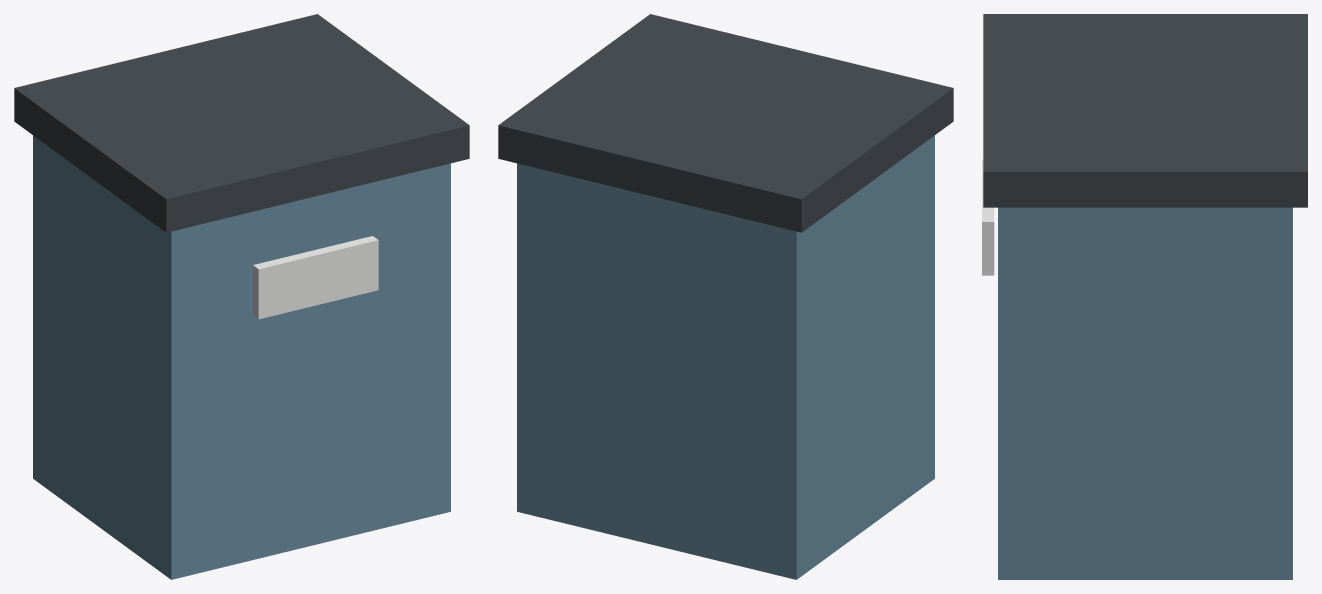
Rendered from long-haul-trucking-and-truck-stop-litter-bin-ffcdad72__14002.glb.
3 views of the same model, side by side, from view 1: azimuth 30°, elevation 25°; view 2: azimuth 150°, elevation 25°; view 3: azimuth 270°, elevation 25° (orthographic). The views are drawn at different scales.
Parts seen in each view (by area): view 1: litter-bin; view 2: litter-bin; view 3: litter-bin.
Boxes of the visible parts, x1=… form: litter-bin: x1=14, y1=14, x2=469, y2=579; litter-bin: x1=498, y1=14, x2=953, y2=579; litter-bin: x1=982, y1=14, x2=1307, y2=579.
Bounding box in the file's own units: 0.76 × 0.93 × 0.6625.
